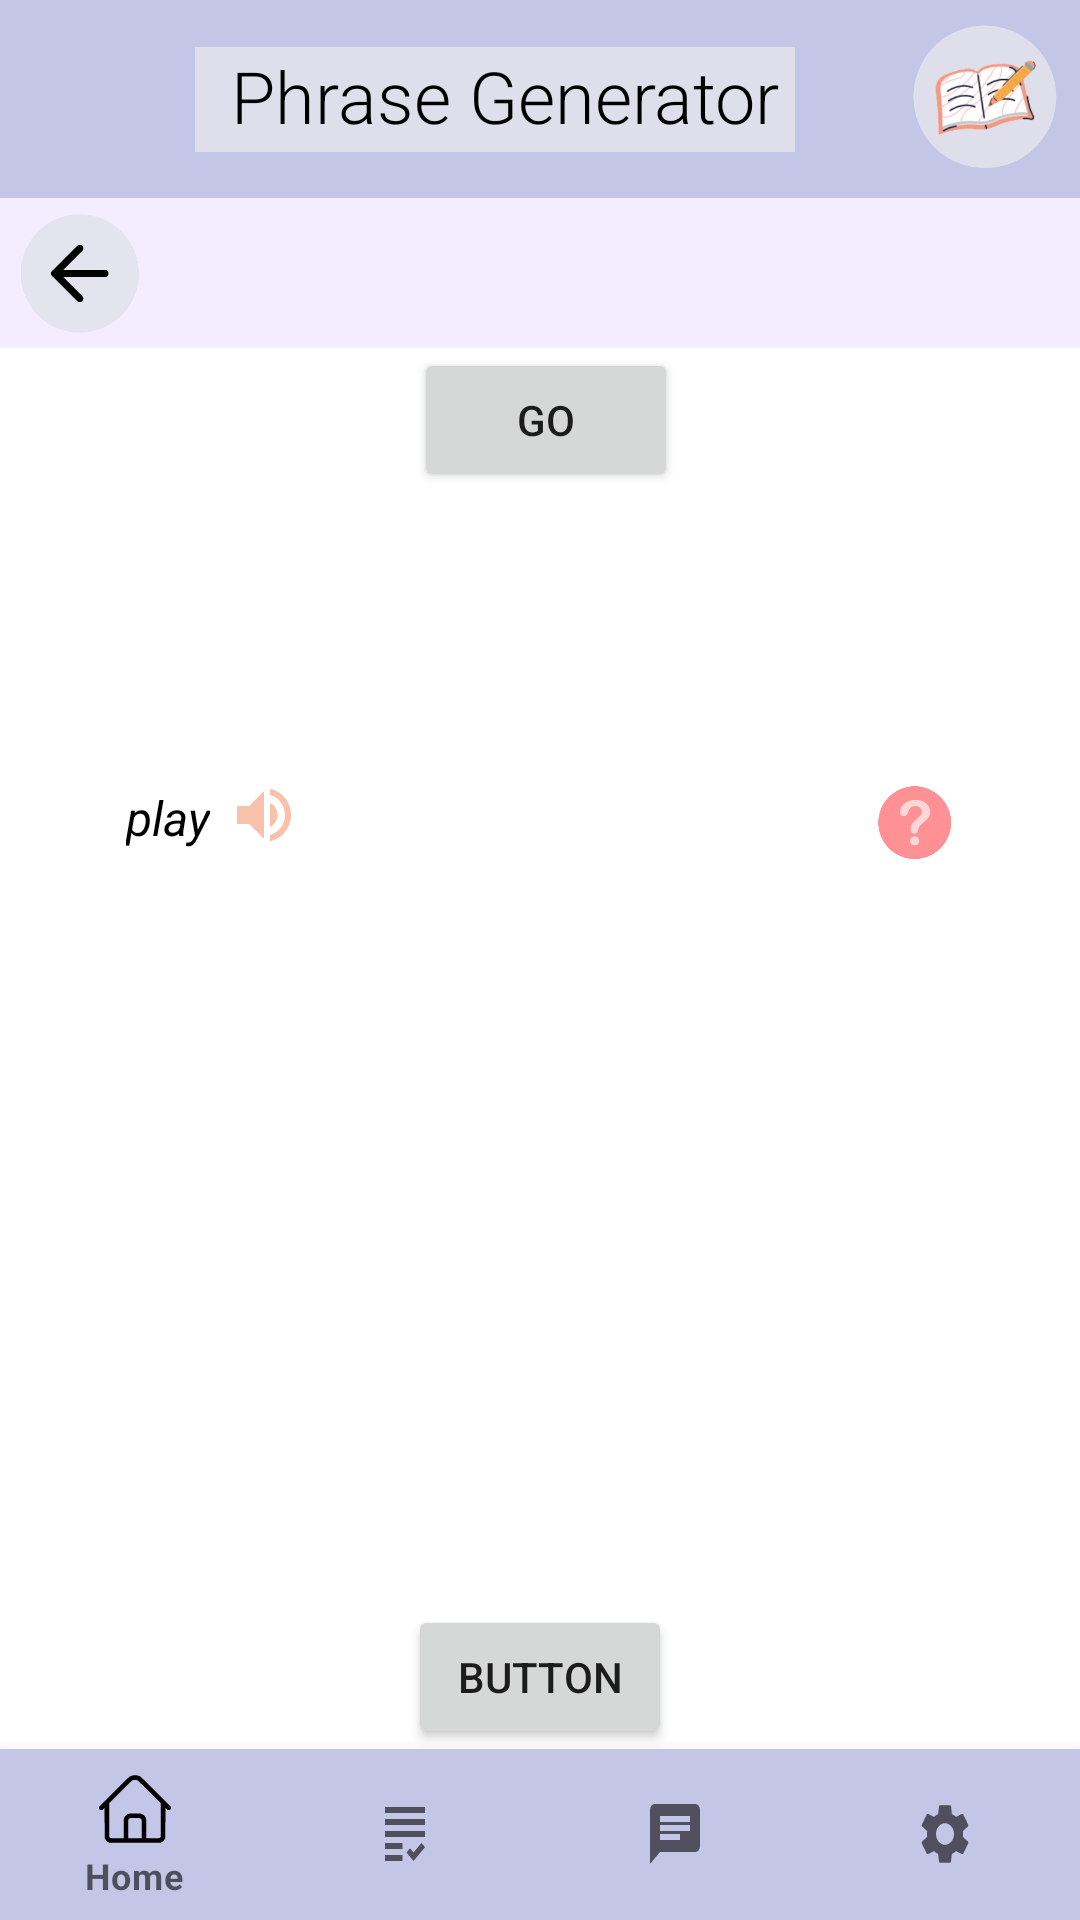

Named icons in this screenshot (1080*1920) and their bounding boxes, (x1, y1, x2, y2):
sound: (237, 789, 291, 841)
